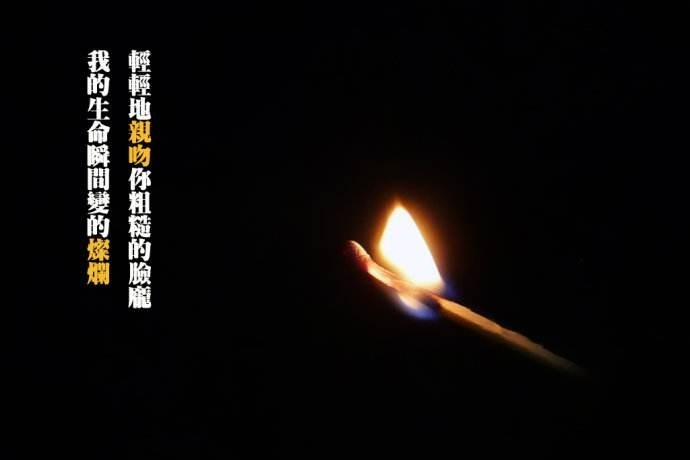fire: (354, 196, 447, 317)
